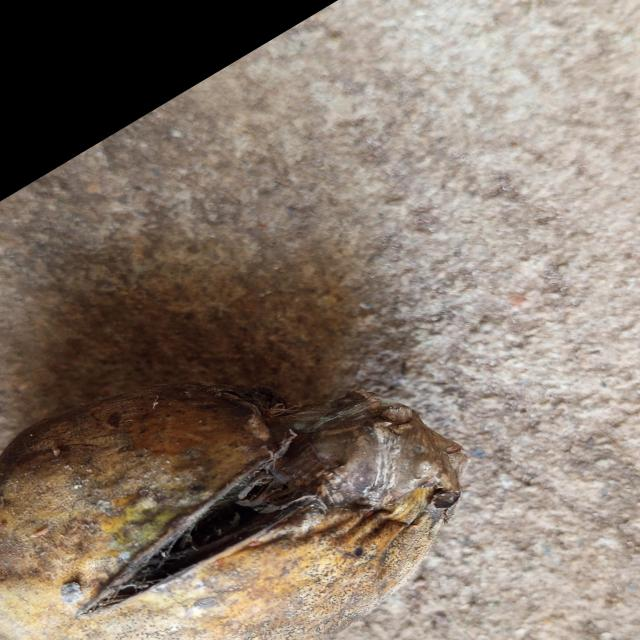damaged: (0, 383, 466, 640)
